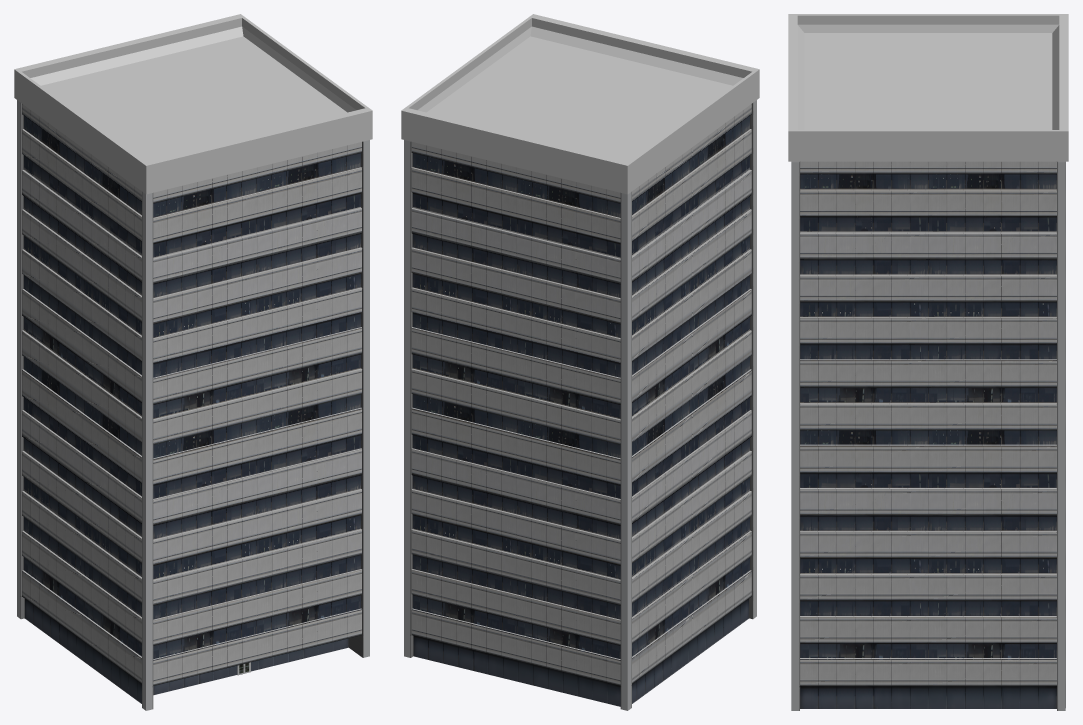
File: Building_02.FBX
3 renders of one model, left to right at view 1: azimuth 30°, elevation 25°; view 2: azimuth 150°, elevation 25°; view 3: azimuth 270°, elevation 25°, orthographic. The views are drawn at different scales.
Visible parts, largest first — view 1: Box384; view 2: Box384; view 3: Box384.
Part boxes in pixels (<box>): Box384: <box>14,14,372,710</box>; Box384: <box>401,14,759,710</box>; Box384: <box>788,14,1068,710</box>.
Bounding box in the file's own units: 41.49 × 95.64 × 41.87.
